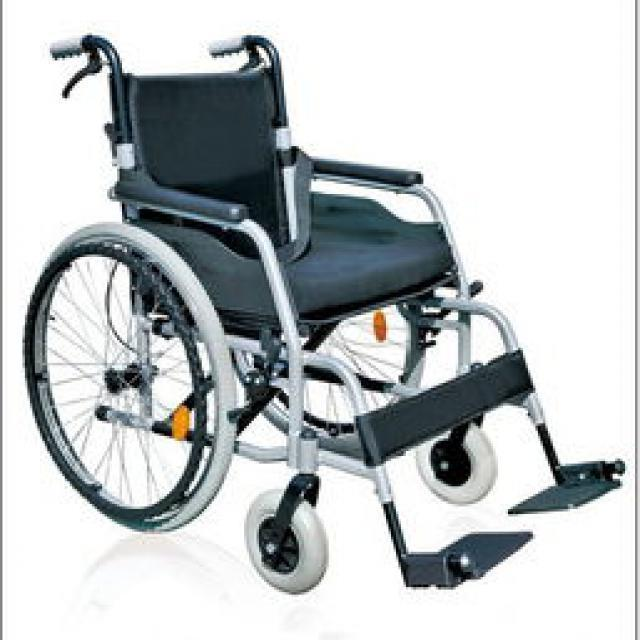wheelchairs: (18, 33, 622, 591)
